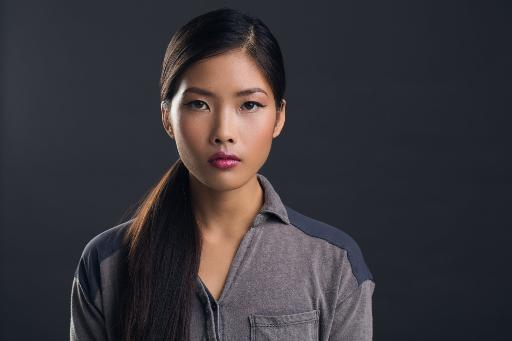left_eye: (240, 101, 268, 115)
left_lip_corner: (235, 157, 247, 165)
right_eye: (185, 100, 211, 113)
right_lip_corner: (205, 157, 214, 166)
